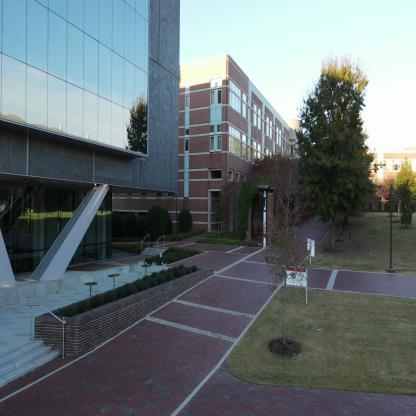EB-1: (191, 34, 309, 290)
Fitts- Woolard: (0, 0, 184, 360)
